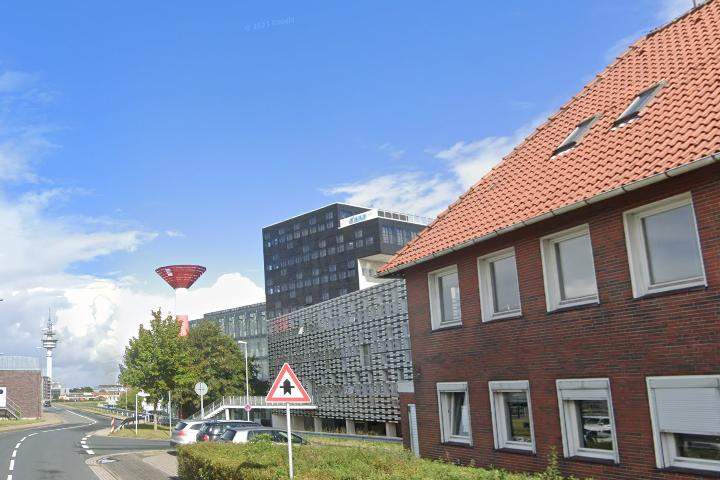traffic_sign: (264, 362, 312, 403)
